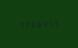four: (41, 19, 46, 27)
seven: (17, 20, 22, 28), (47, 19, 52, 27), (53, 19, 58, 27)
six: (29, 20, 34, 28), (35, 20, 40, 27)
two: (23, 20, 28, 28)
